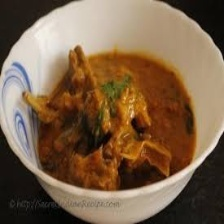sabzi: (14, 32, 205, 199)
